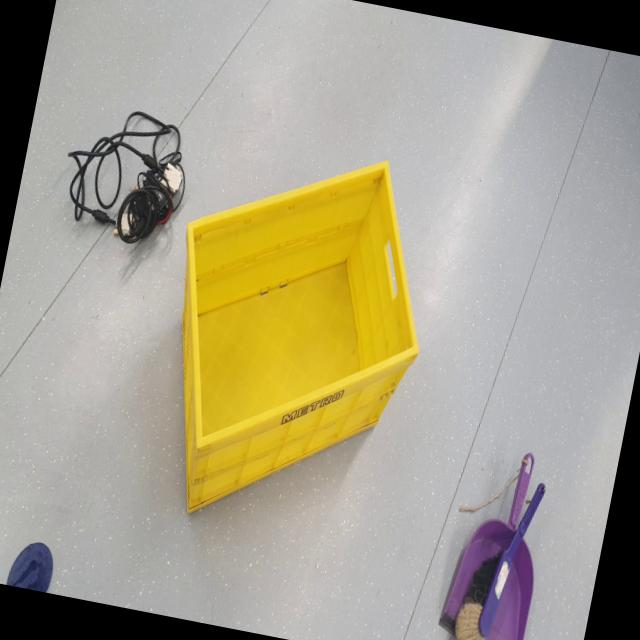box: (127, 112, 464, 564)
